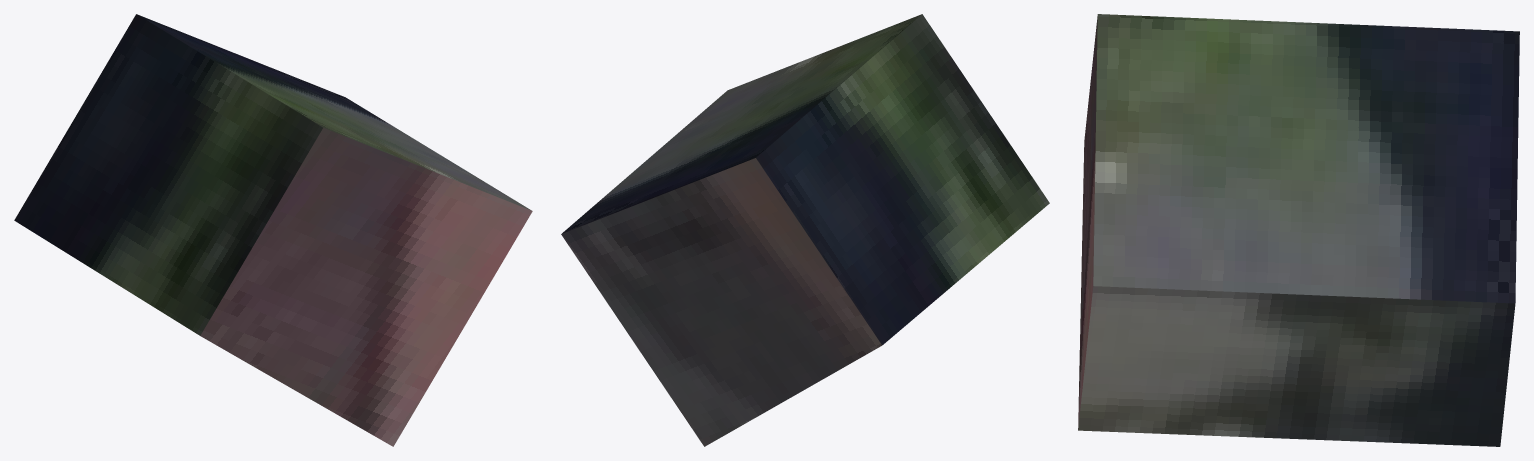
3 renders of one model, left to right at view 1: azimuth 30°, elevation 25°; view 2: azimuth 150°, elevation 25°; view 3: azimuth 270°, elevation 25°, orthographic. The views are drawn at different scales.
Parts seen in each view (by area): view 1: BAG_0599100010038677; view 2: BAG_0599100010038677; view 3: BAG_0599100010038677.
Part boxes in pixels (left/top/right/bottom): BAG_0599100010038677: left=14, top=14, right=532, bottom=446; BAG_0599100010038677: left=561, top=14, right=1049, bottom=446; BAG_0599100010038677: left=1078, top=14, right=1519, bottom=446.
Size of the model in its own units: 3.9 by 3.76 by 3.76.
2 materials, 1 textured.
